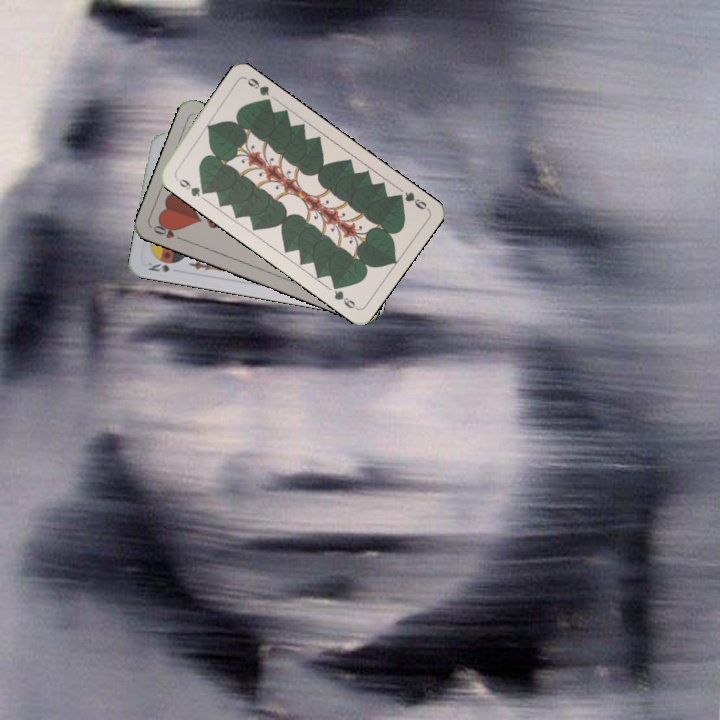G9: (171, 172, 209, 199), (391, 188, 431, 212)
HO: (149, 219, 187, 244)
SK: (144, 260, 172, 275)
